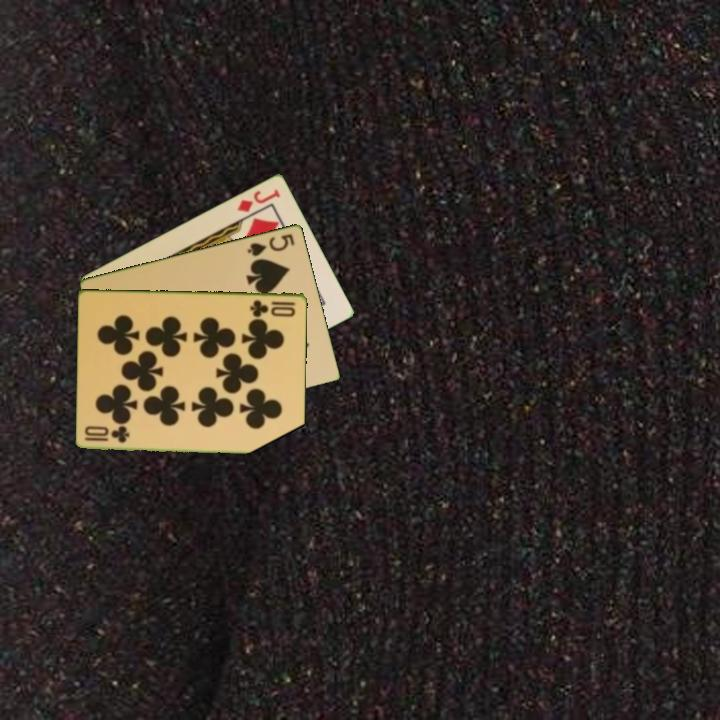10c: (247, 296, 298, 319), (81, 424, 132, 445)
5s: (244, 230, 298, 259)
Jd: (233, 185, 283, 215)
